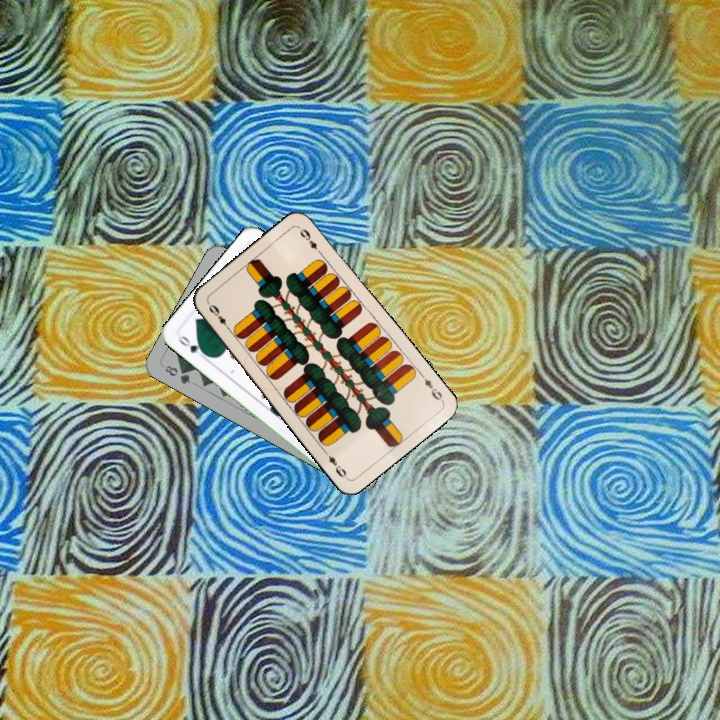E9: (416, 369, 446, 404), (203, 299, 233, 333)
G8: (161, 361, 193, 387)
GO: (174, 331, 210, 362)
